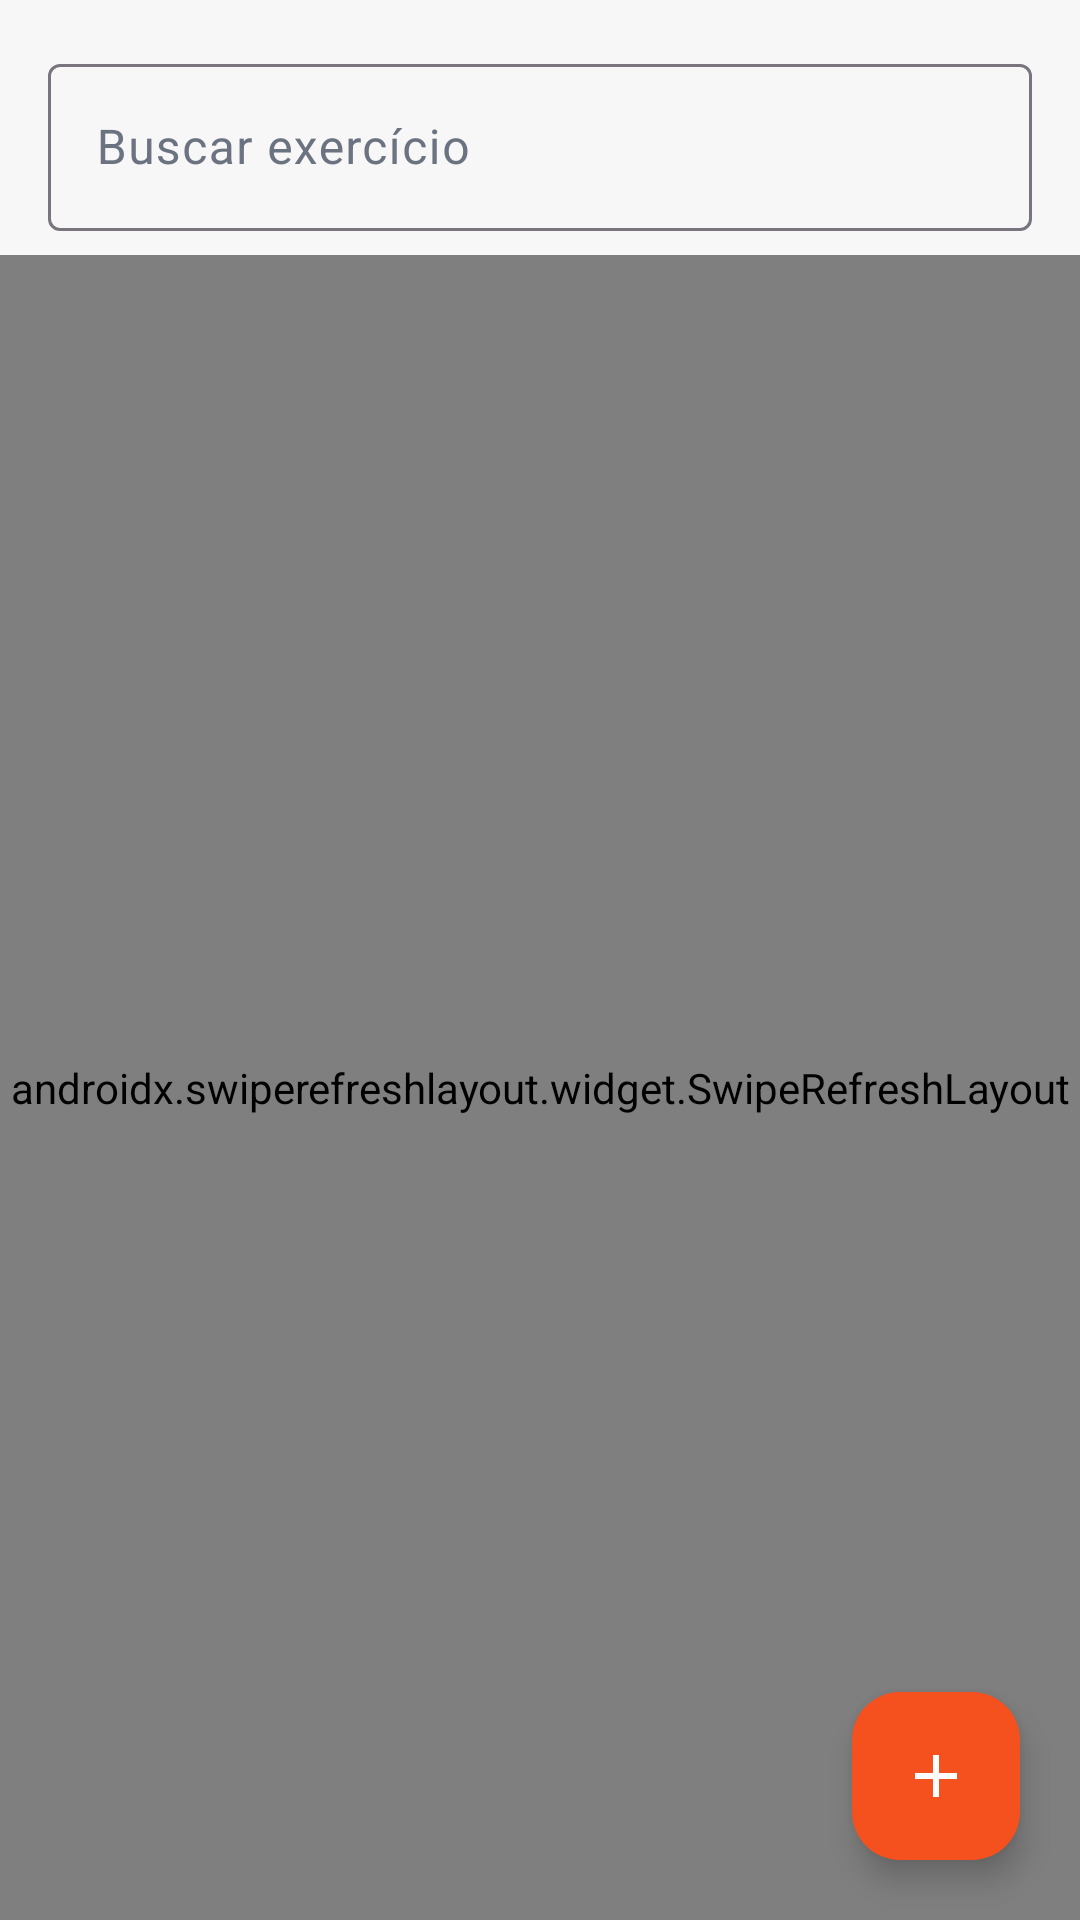

Icons on this 1080x1920 Android screen, each with the point to tap as [x,y]:
Novo exercício: [936,1776]
